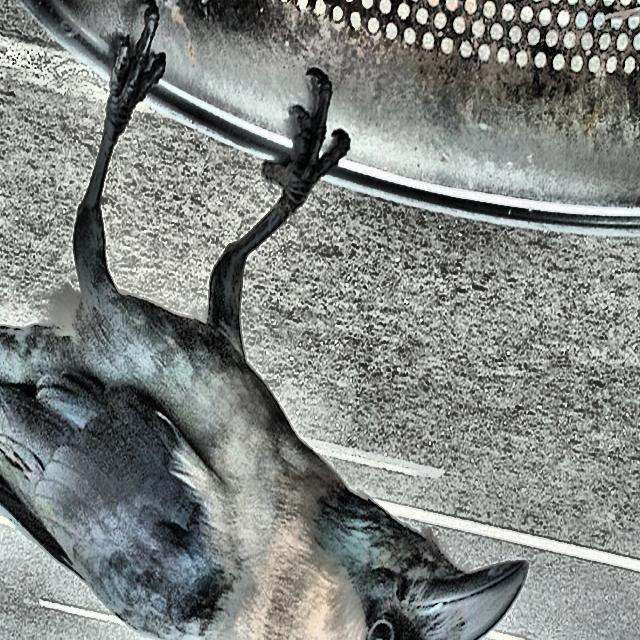crow: (1, 1, 569, 640)
